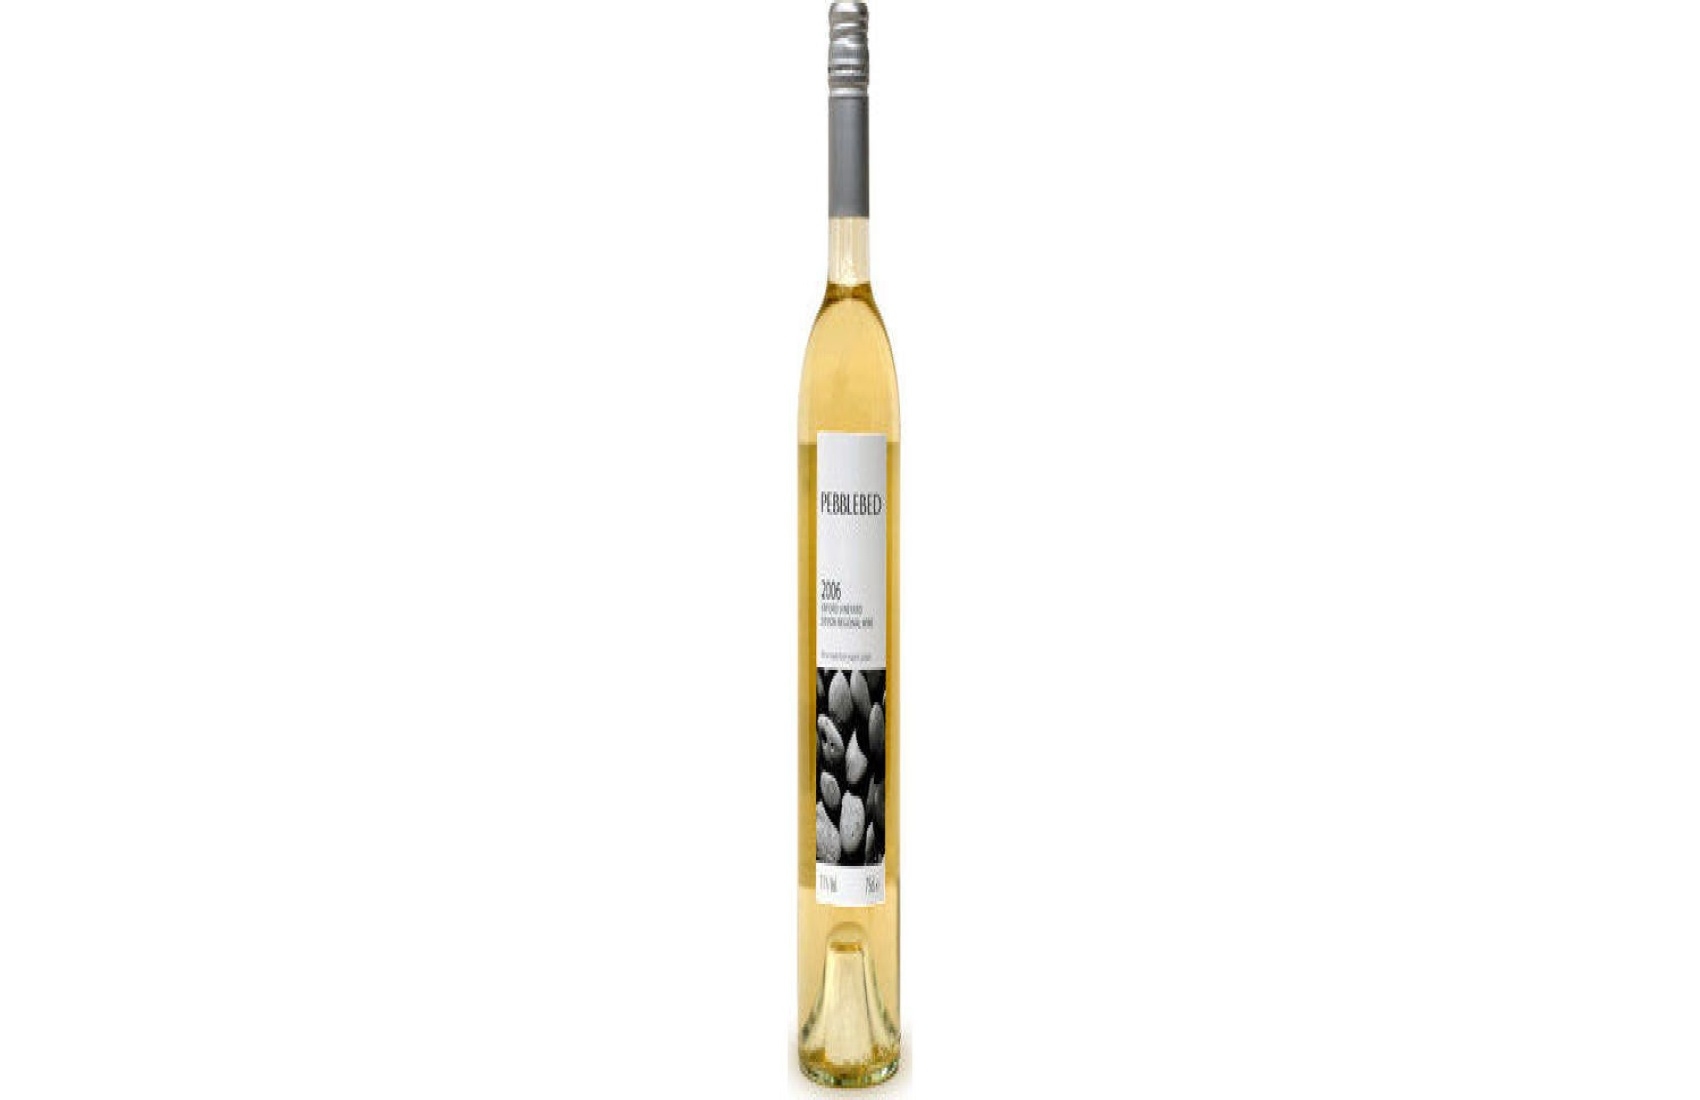wine: (794, 47, 907, 1096)
